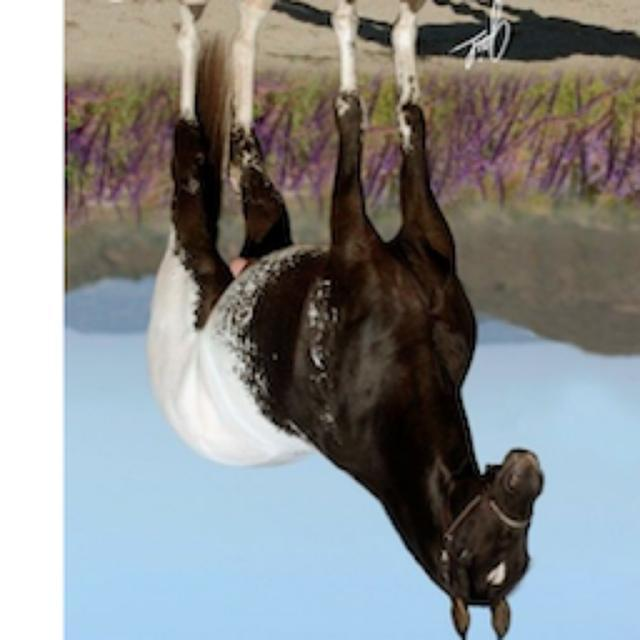Horse: (138, 2, 552, 640)
